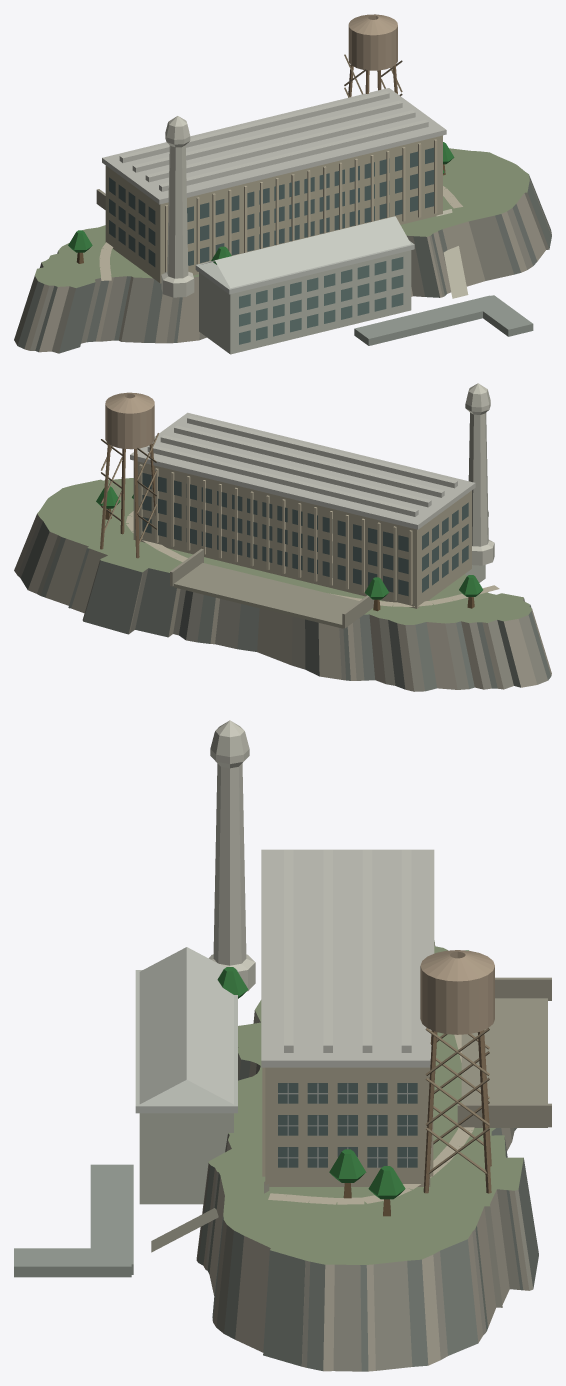
File: alcatraz.glb
3 views of the same model, one above another, from view 1: azimuth 30°, elevation 25°; view 2: azimuth 150°, elevation 25°; view 3: azimuth 270°, elevation 25° (orthographic). The views are drawn at different scales.
Visible parts, largest first — view 1: alcatraz-osm-cliffs-cellhouse-and-towers; view 2: alcatraz-osm-cliffs-cellhouse-and-towers; view 3: alcatraz-osm-cliffs-cellhouse-and-towers.
Part boxes in pixels (<box>): alcatraz-osm-cliffs-cellhouse-and-towers: <box>14,14,551,354</box>; alcatraz-osm-cliffs-cellhouse-and-towers: <box>14,383,551,691</box>; alcatraz-osm-cliffs-cellhouse-and-towers: <box>14,720,551,1371</box>.
Bounding box in the file's own units: 23 × 9.95 × 13.7.
